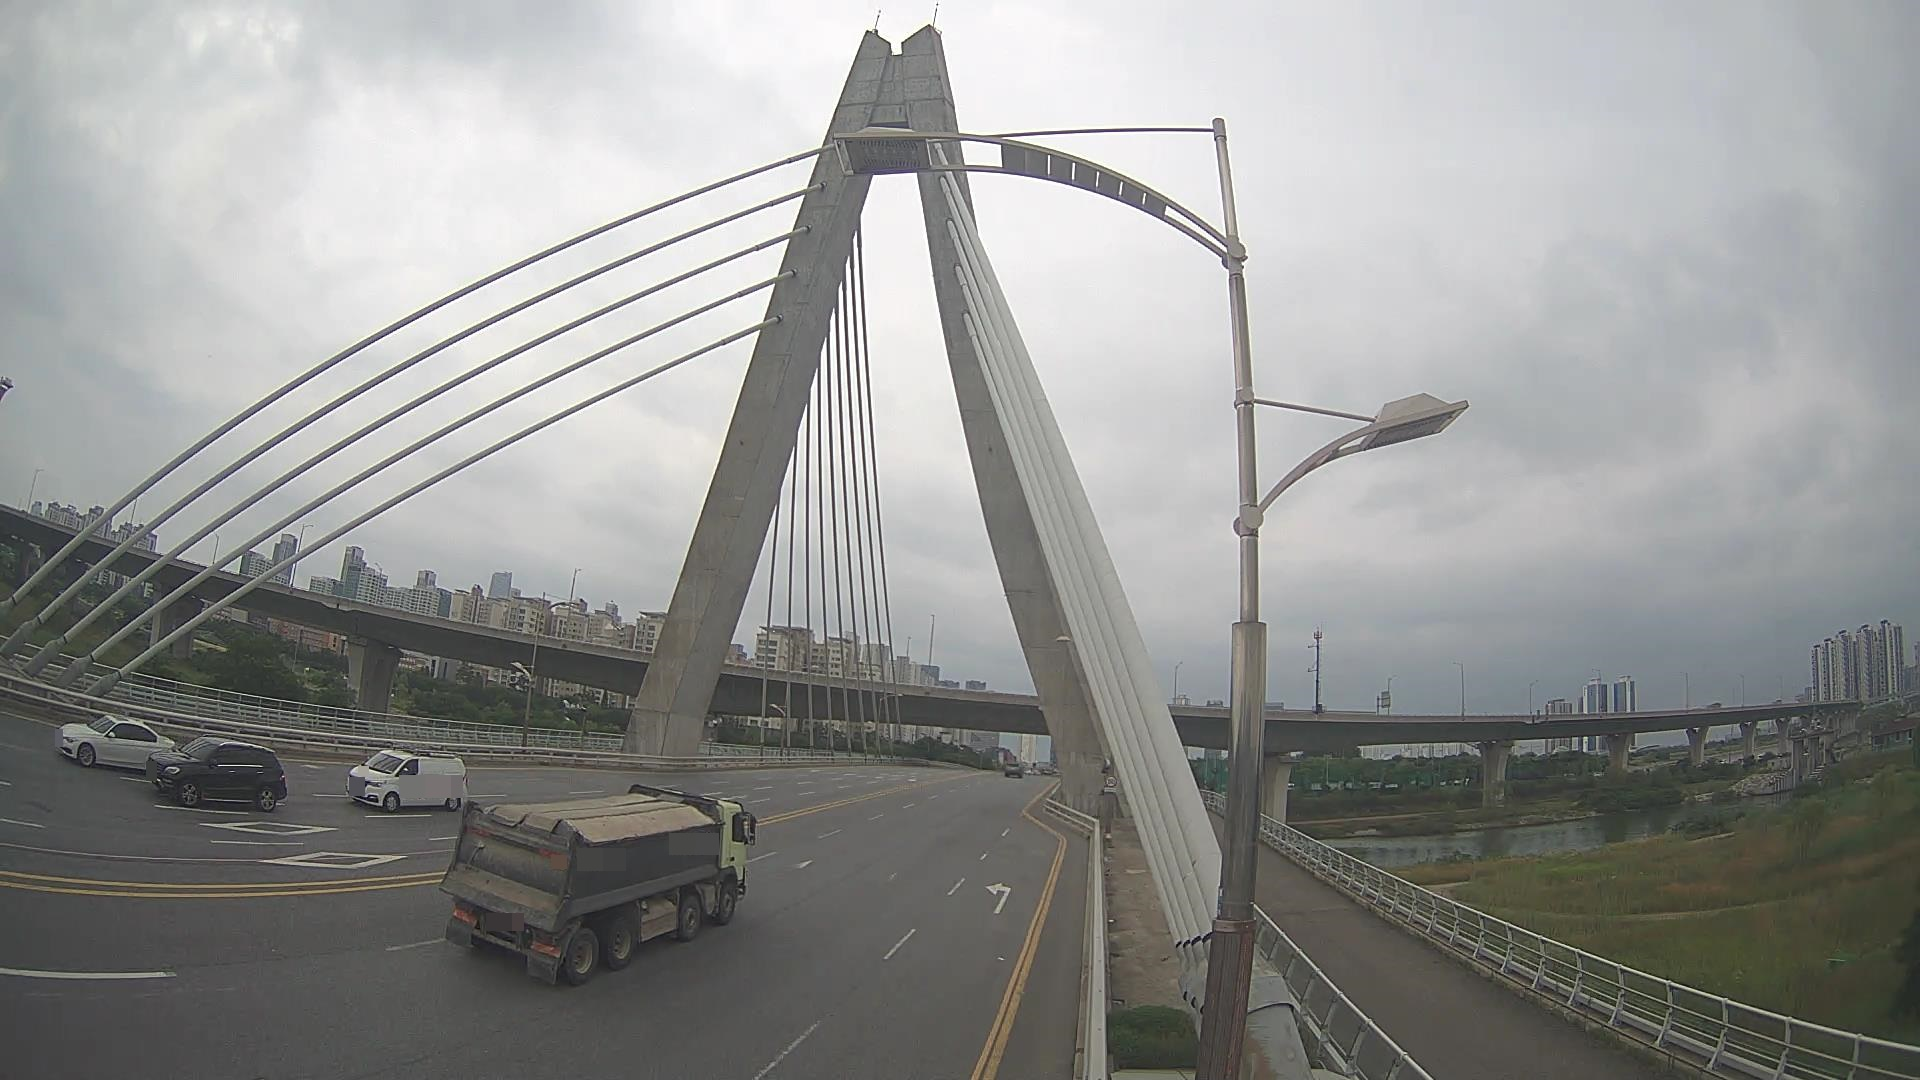정상차량: (439, 785, 758, 986)
